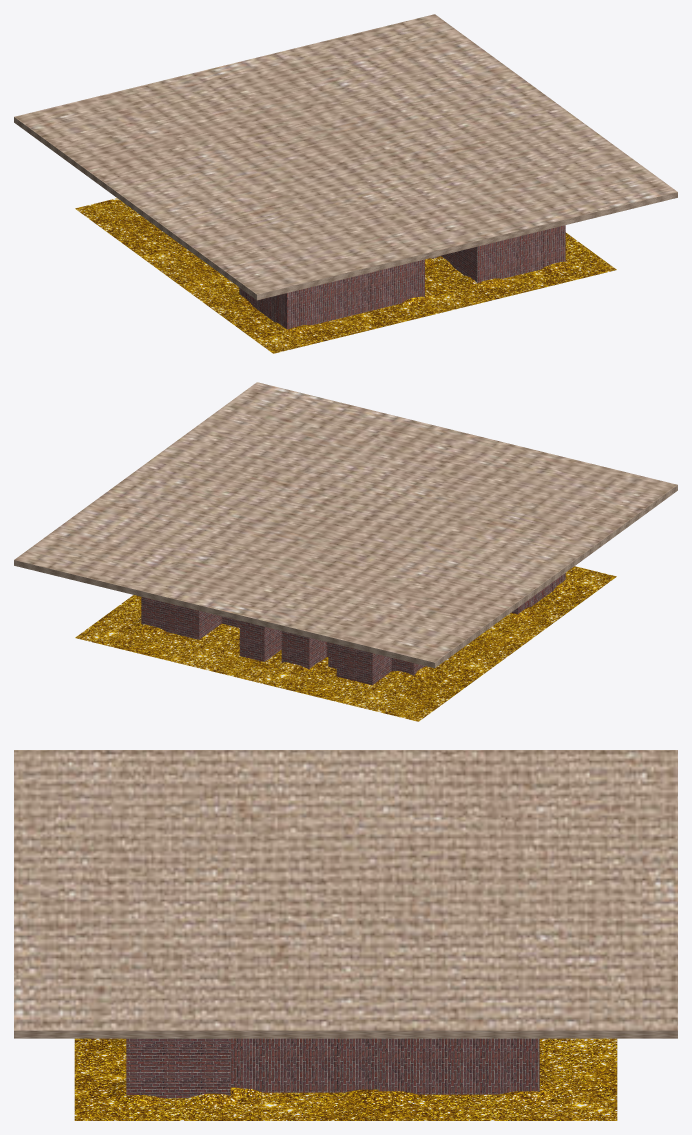
Rendered from map2.fbx.
3 views of the same model, one above another, from view 1: azimuth 30°, elevation 25°; view 2: azimuth 150°, elevation 25°; view 3: azimuth 270°, elevation 25° (orthographic). The views are drawn at different scales.
Visible parts, largest first — view 1: Cube, Dirt, Walls; view 2: Cube, Dirt, Walls; view 3: Cube, Walls, Dirt.
Part boxes in pixels (x1,y1,x2,y2): Cube: [14, 14, 677, 300]; Dirt: [75, 198, 616, 353]; Walls: [239, 225, 565, 329]; Cube: [14, 382, 677, 668]; Dirt: [75, 566, 616, 721]; Walls: [141, 573, 565, 685]; Cube: [14, 750, 677, 1038]; Walls: [126, 1038, 539, 1098]; Dirt: [74, 1038, 617, 1120].
Size of the model in its own units: 9588 by 1846 by 9588.
